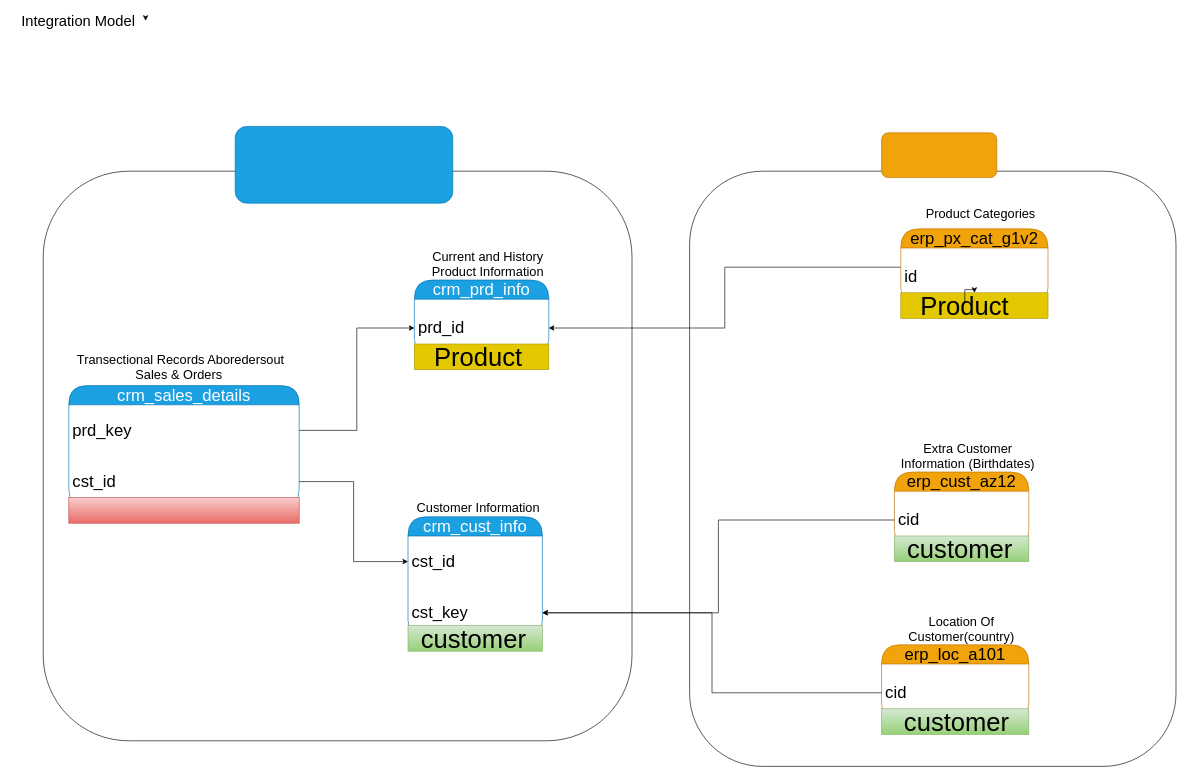
Image size: 1187x778. Some labels were removed from this diagram. Here are the shapes that lost their labels. From the top down, the centre of each, then its label:
pixel 344 164: CRM
pixel 939 155: ERP
pixel 183 510: Sales
